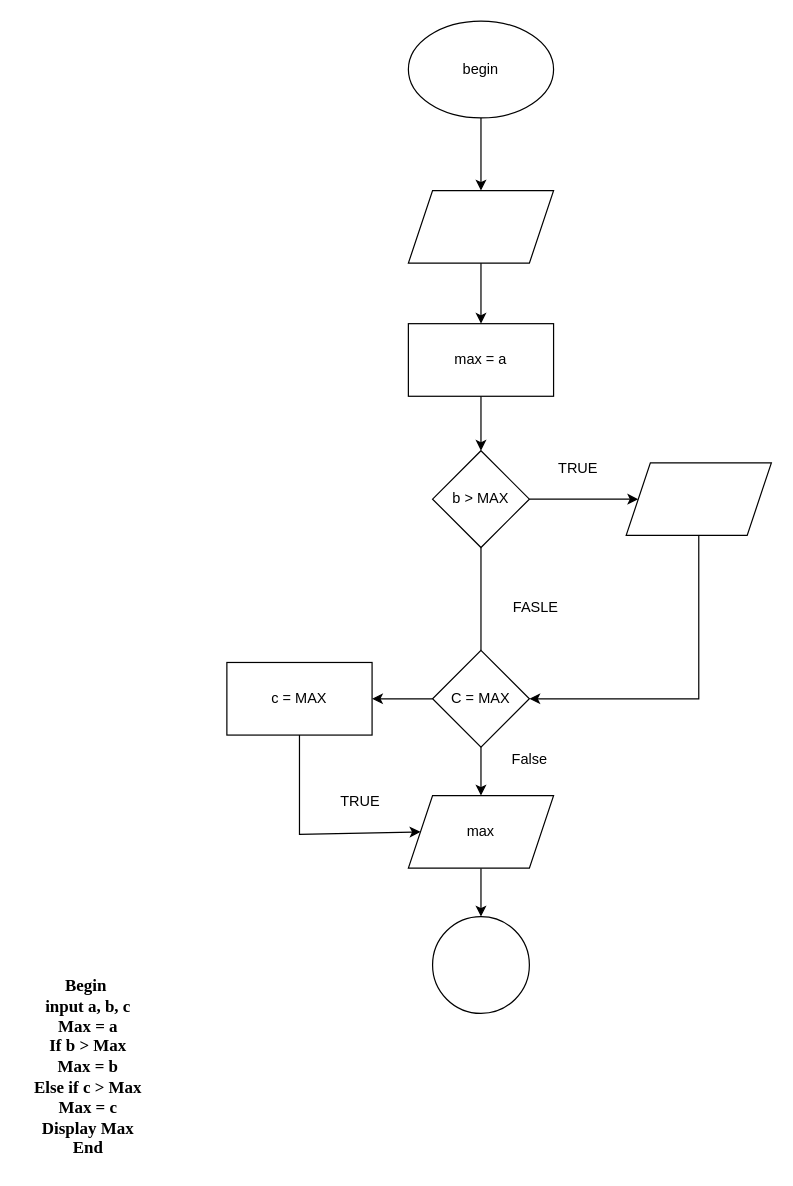
Some shapes in this 793 by 1186 pixel diagram are drawn without their labels. The centre of each missing label's shape, as x and y in pixels:
b = MAX: the point at 698,498
end: the point at 480,964
input a, b, c: the point at 480,226
